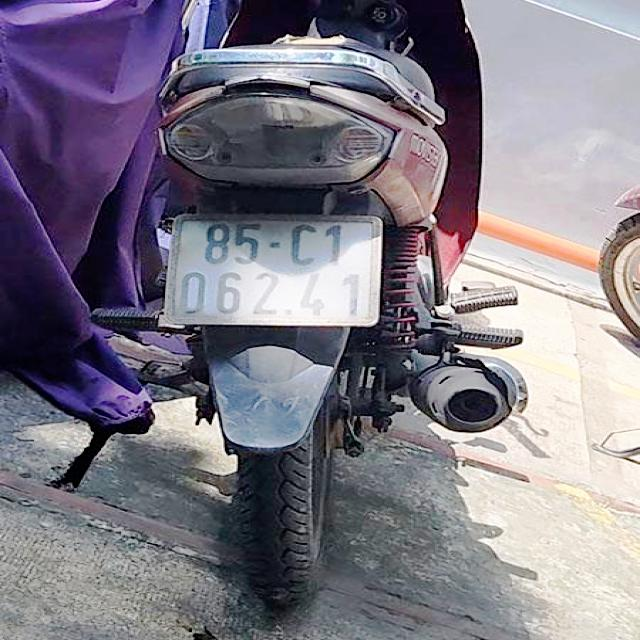license_plate: (169, 216, 378, 329)
